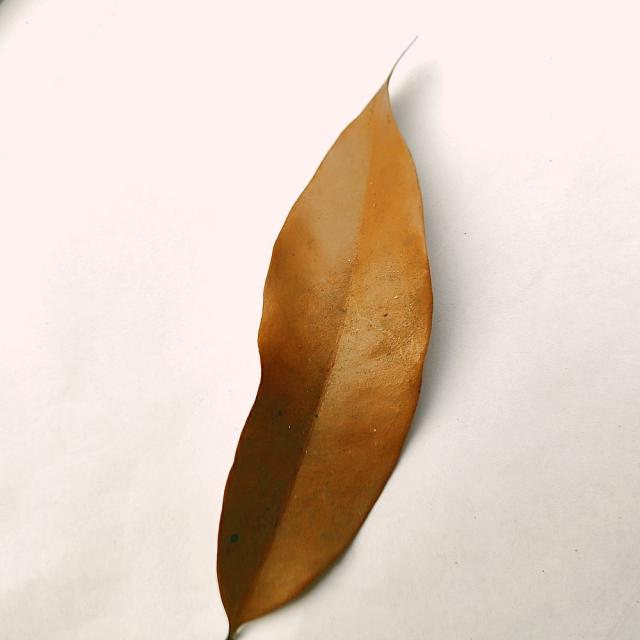Dry_Leaf-Lychee: (217, 79, 435, 633)
